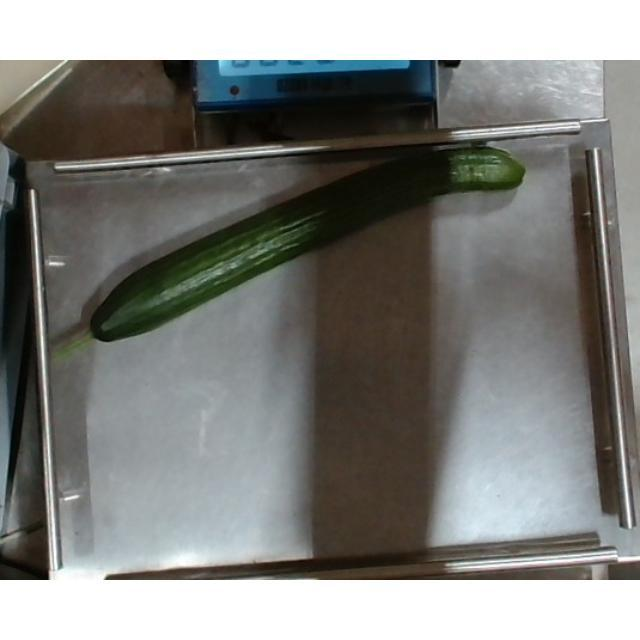cucumber: (47, 142, 531, 364)
